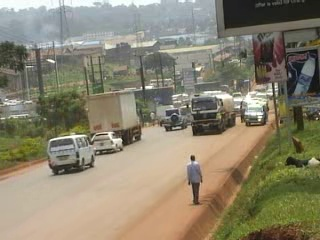Car: (90, 128, 125, 157), (161, 107, 188, 133)
